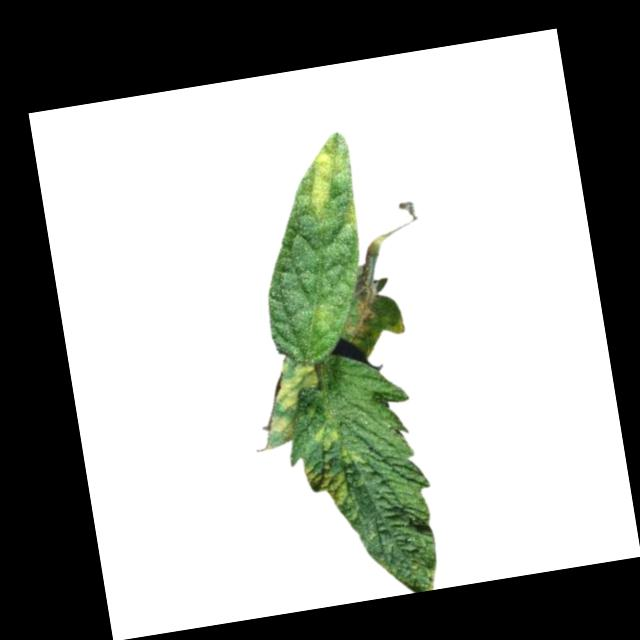Leaf_Mold: (296, 418, 372, 516), (293, 129, 362, 232), (258, 350, 329, 444), (339, 264, 387, 351)
